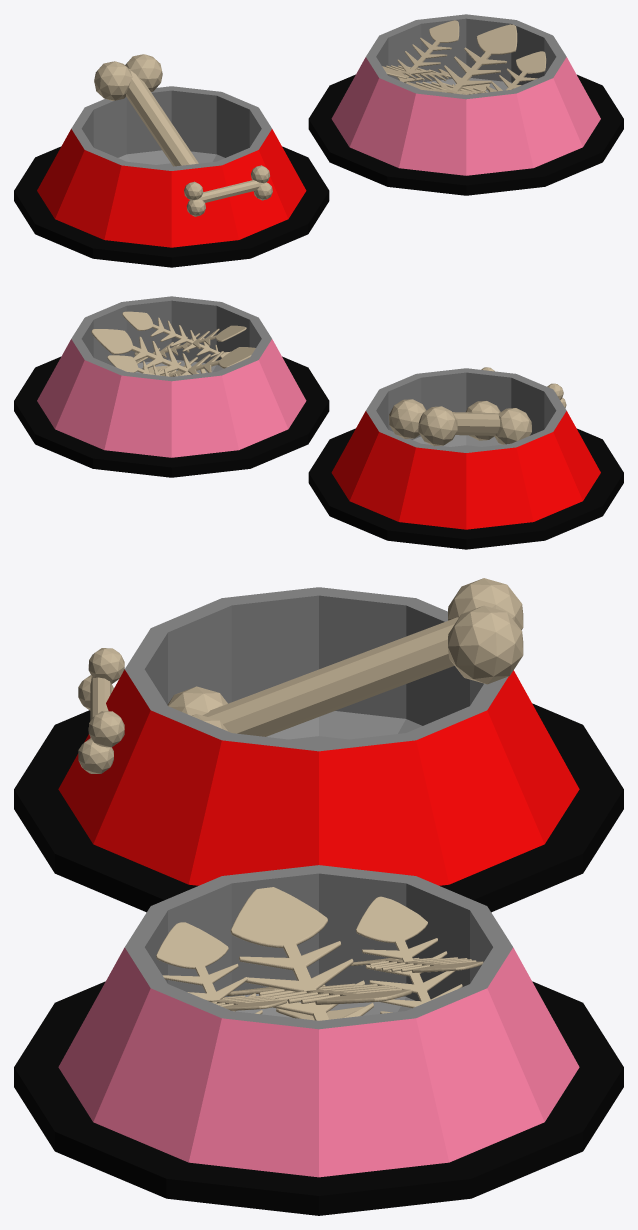
The model's file is Dog and Cat Bowl.fbx.
3 views of the same model, one above another, from view 1: azimuth 30°, elevation 25°; view 2: azimuth 150°, elevation 25°; view 3: azimuth 270°, elevation 25° (orthographic). The views are drawn at different scales.
Parts seen in each view (by area): view 1: Icosphere.001; view 2: Icosphere.001; view 3: Icosphere.001.
Boxes of the visible parts, <box> form: Icosphere.001: <box>14,14,623,267</box>; Icosphere.001: <box>14,296,623,549</box>; Icosphere.001: <box>14,578,623,1215</box>.
Size of the model in its own units: 330 by 61 by 159.
